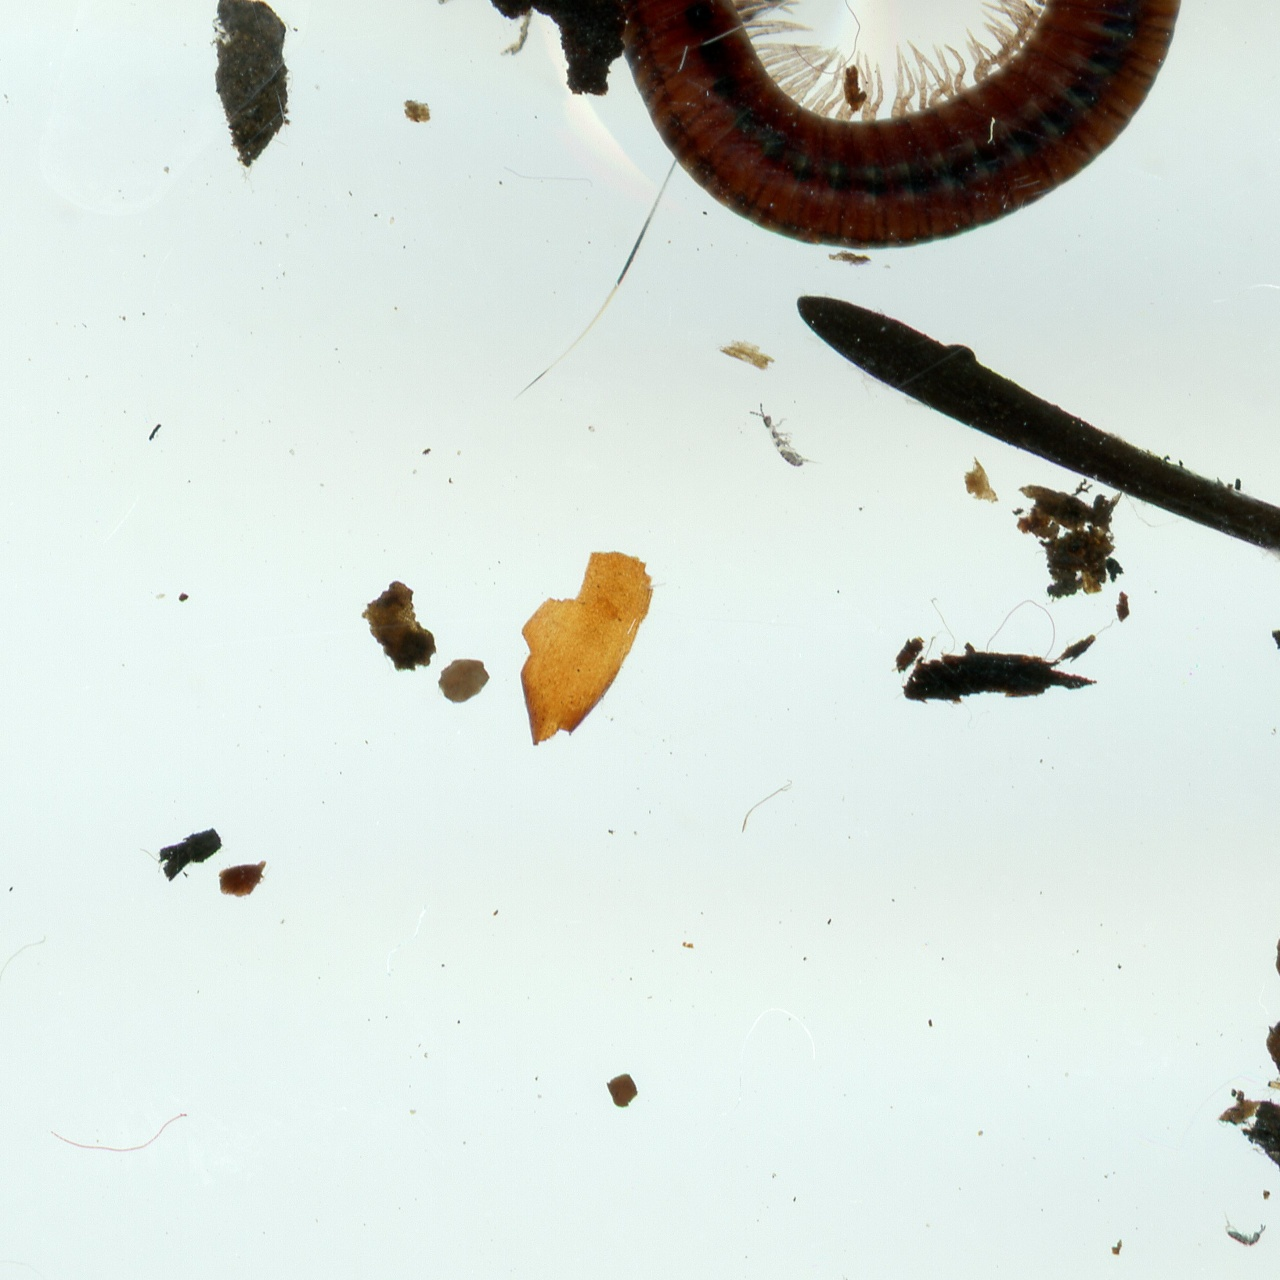arthropod: (542, 0, 1192, 254), (745, 390, 825, 485), (1212, 1203, 1272, 1255)
